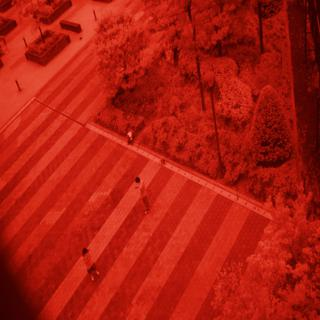person: (76, 242, 104, 284), (131, 173, 156, 218)
